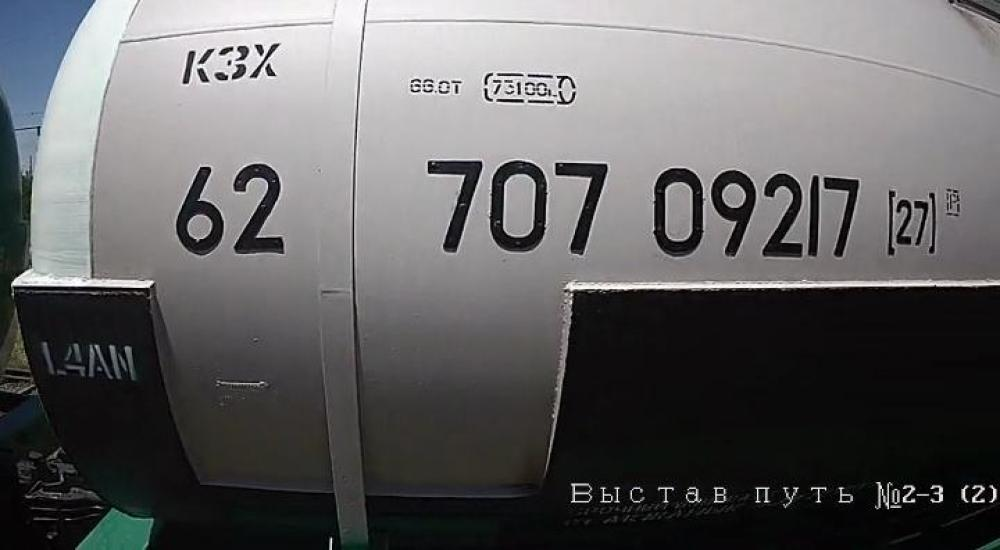Wagon-number: (424, 153, 865, 264)
